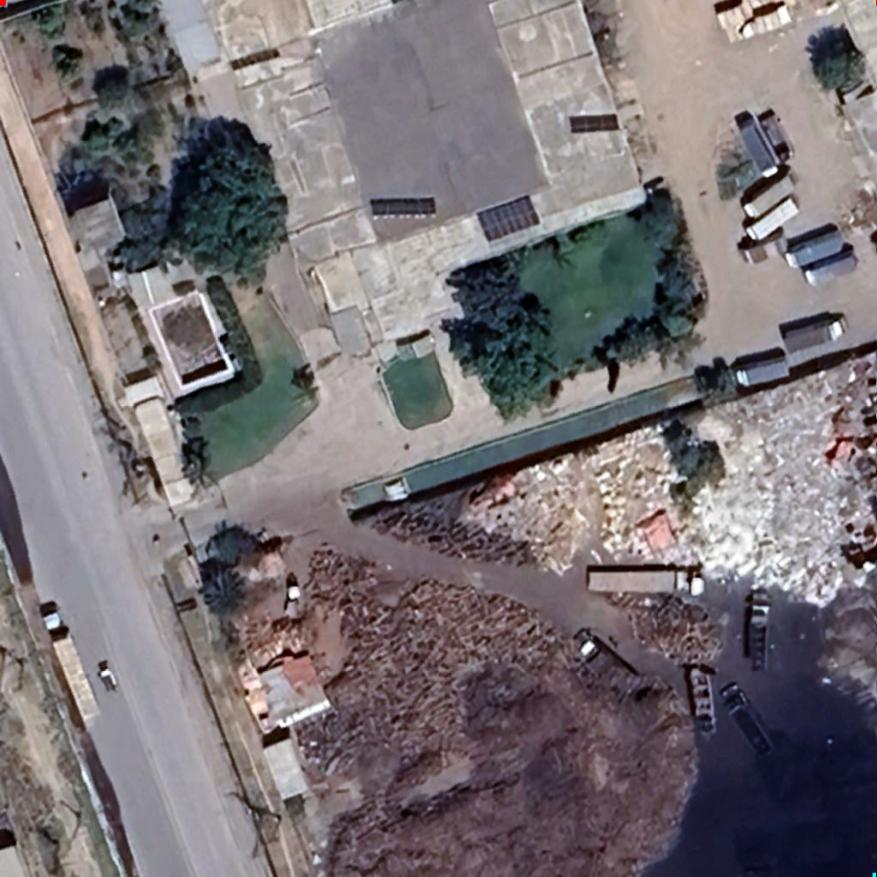Solarpanel: (473, 193, 541, 245), (371, 197, 439, 219), (566, 112, 619, 136)
